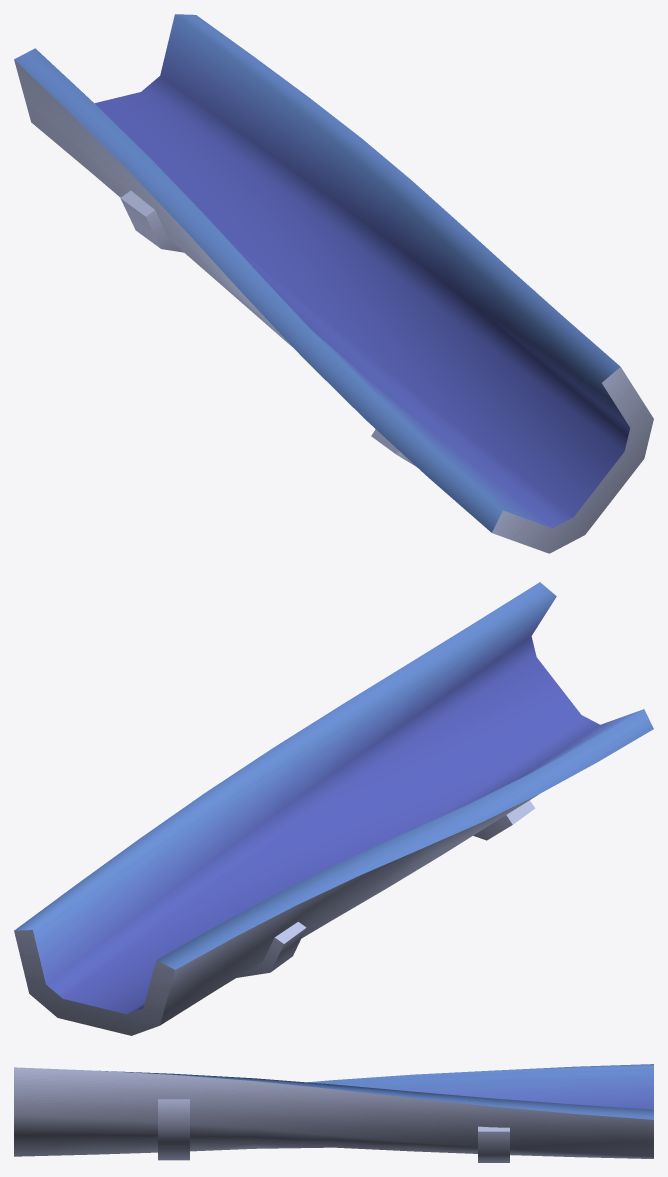
File: coaster-flume-straight-skew-right.glb
3 renders of one model, top to bottom at view 1: azimuth 30°, elevation 25°; view 2: azimuth 150°, elevation 25°; view 3: azimuth 270°, elevation 25°, orthographic. The views are drawn at different scales.
Visible parts, largest first — view 1: coaster-flume-straight-skew-right; view 2: coaster-flume-straight-skew-right; view 3: coaster-flume-straight-skew-right.
Boxes of the visible parts, x1,y1,x2,y2 form: coaster-flume-straight-skew-right: (14, 14, 653, 553); coaster-flume-straight-skew-right: (14, 582, 653, 1035); coaster-flume-straight-skew-right: (14, 1064, 653, 1162).
Size of the model in its own units: 0.9707 by 0.7373 by 4.
Materials: 1 (1 with a texture image).
